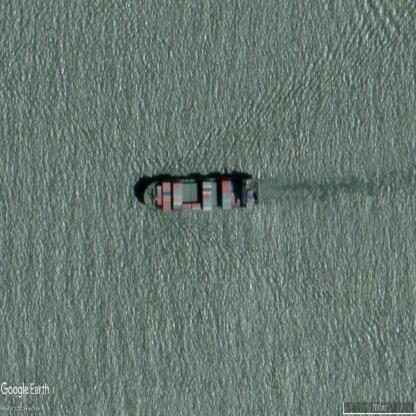ship: (144, 174, 257, 214)
